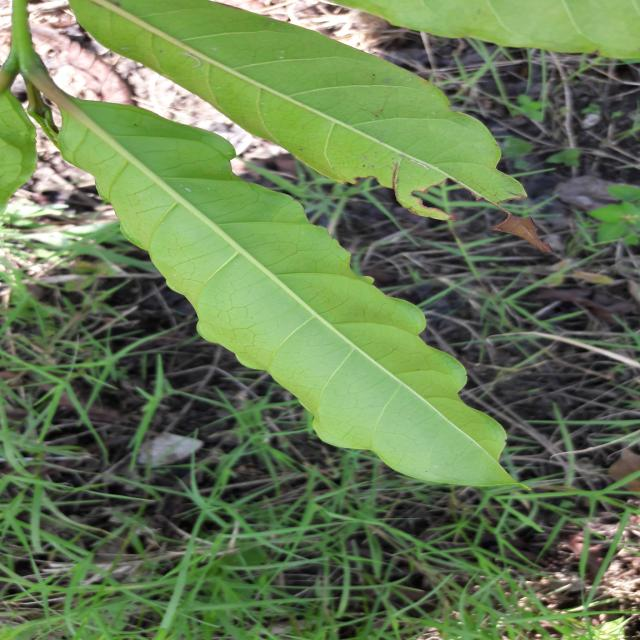Sanas: (8, 0, 521, 492)
